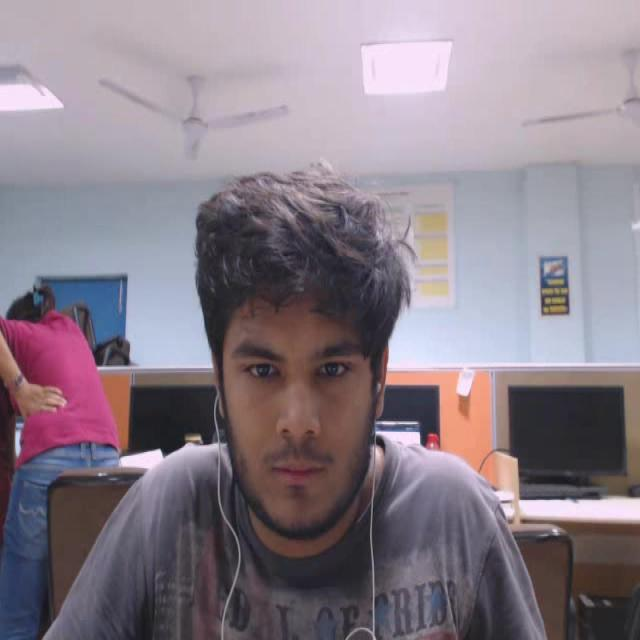Engaged: (168, 127, 444, 567)
